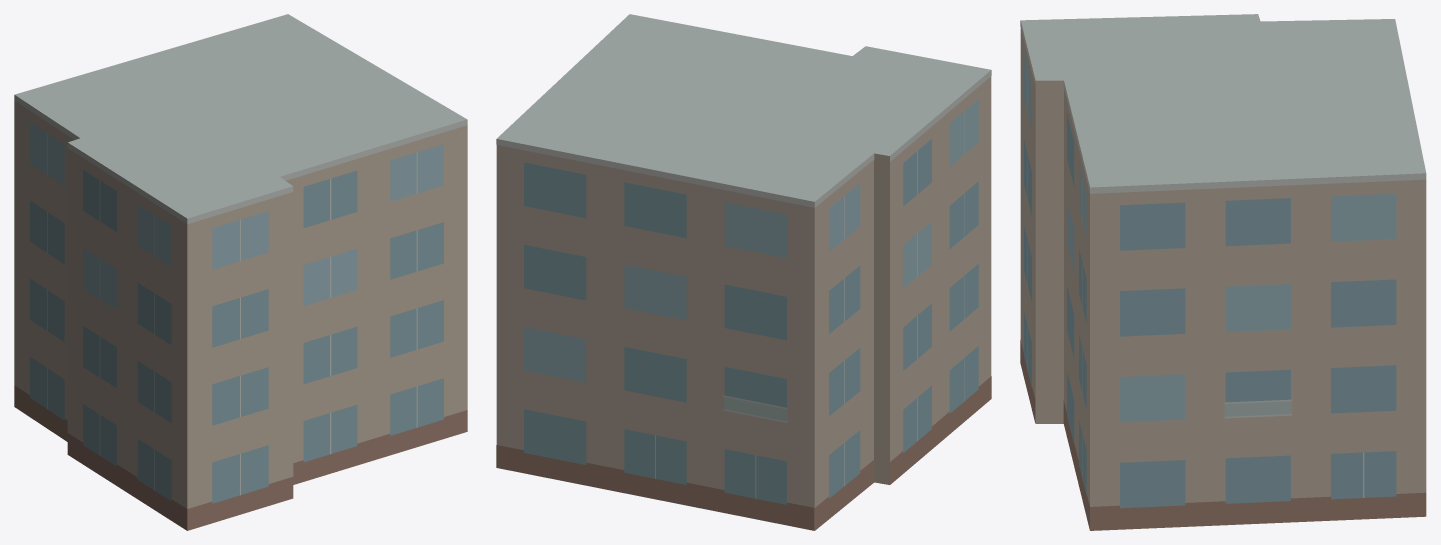
File: survey-upis-32914873.glb
The picture shows the model from 3 angles, left to right: view 1: azimuth 30°, elevation 25°; view 2: azimuth 150°, elevation 25°; view 3: azimuth 270°, elevation 25°; orthographic projection. The views are drawn at different scales.
Parts seen in each view (by area): view 1: survey-upis-32914873.tmp; view 2: survey-upis-32914873.tmp; view 3: survey-upis-32914873.tmp.
Part boxes in pixels (x1,y1,x2,y2): survey-upis-32914873.tmp: (14, 14, 467, 530); survey-upis-32914873.tmp: (496, 14, 991, 530); survey-upis-32914873.tmp: (1020, 14, 1426, 530).
Size of the model in its own units: 14.43 by 13.3 by 14.26.
